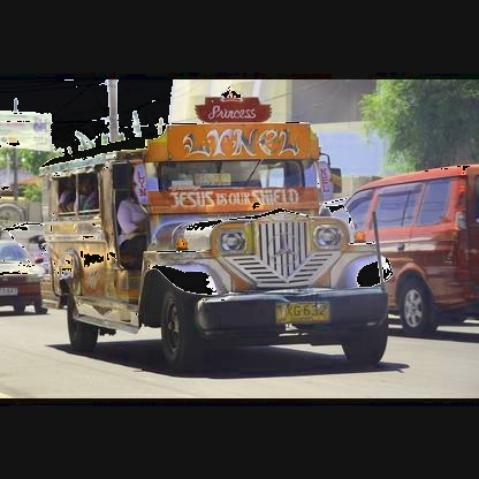jeepney: (45, 88, 393, 380)
